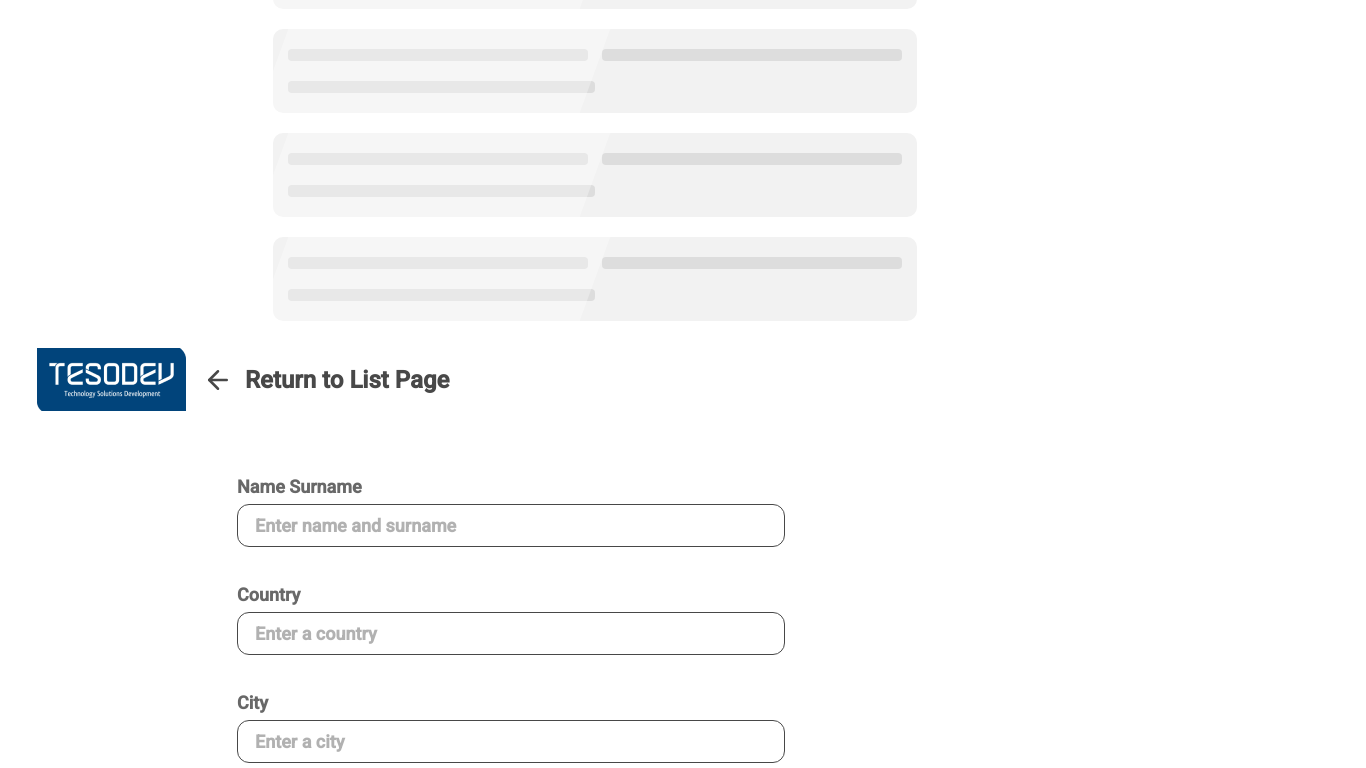
Scenario: successful referral › successful referral
(page scrolled)
Click the element with test id "navigateBack" at (326, 380), box [203,364,449,394]
(page scrolled)
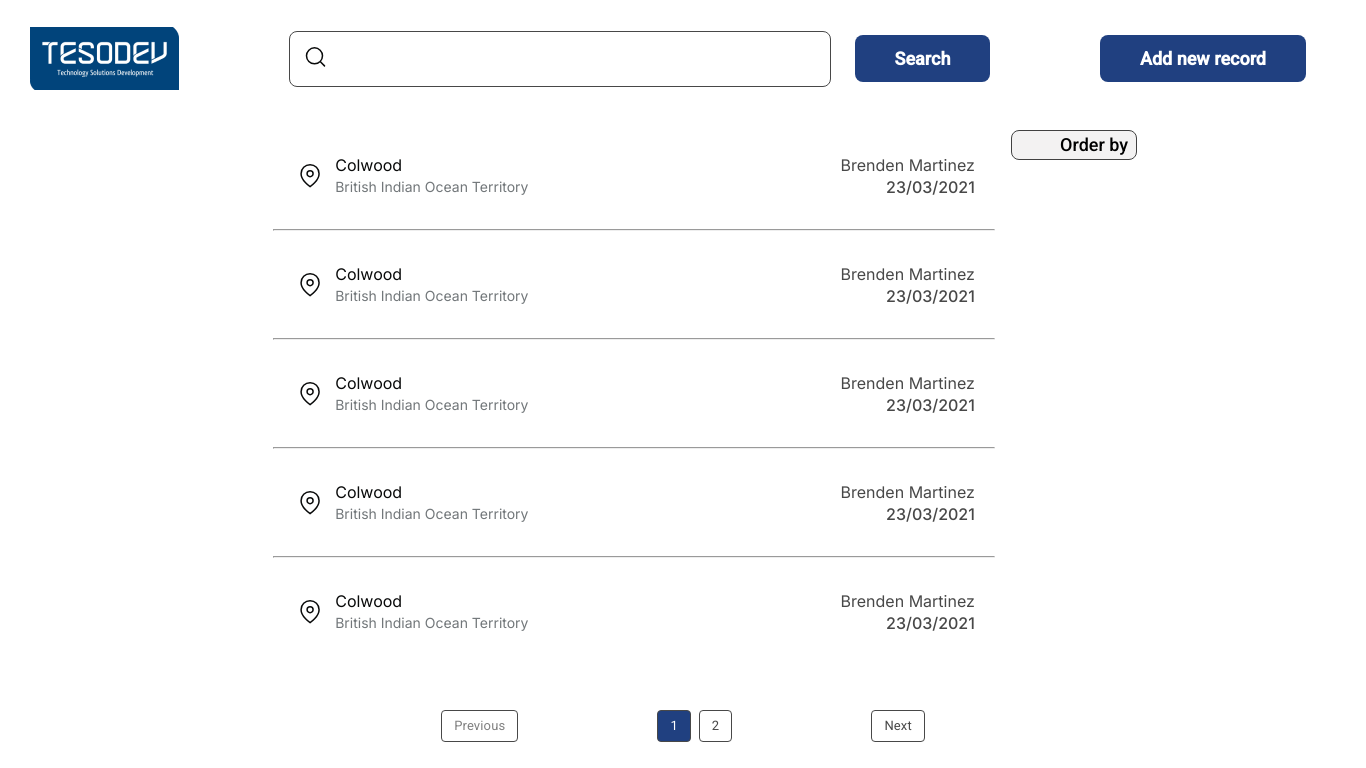
Result: the text "Order by" is shown at [1060,134,1128,155]
